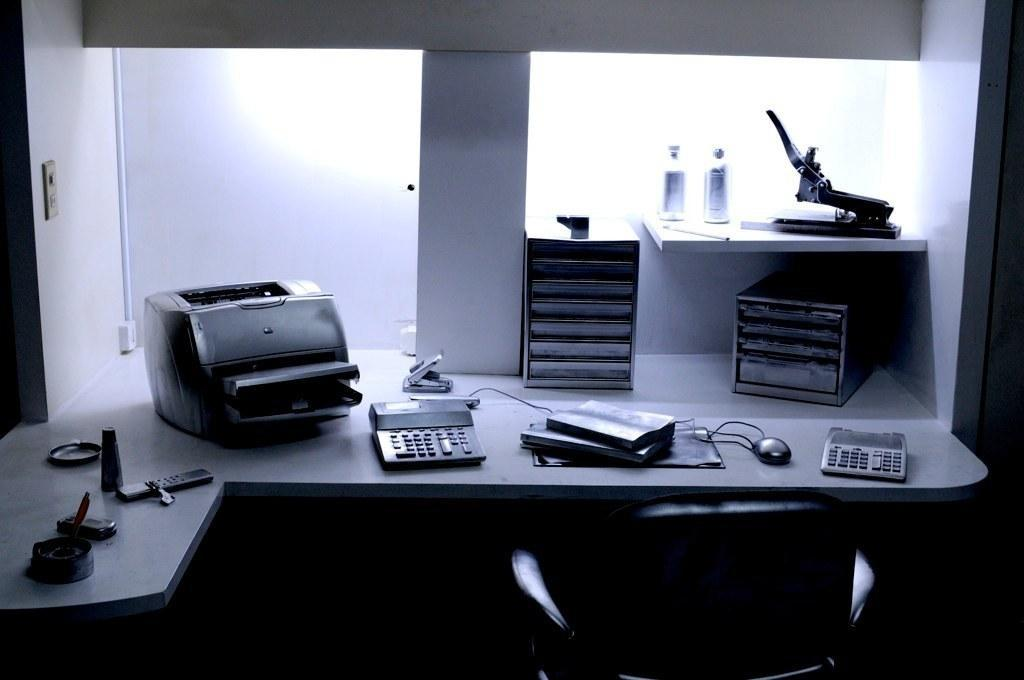Printer: (139, 278, 363, 440)
